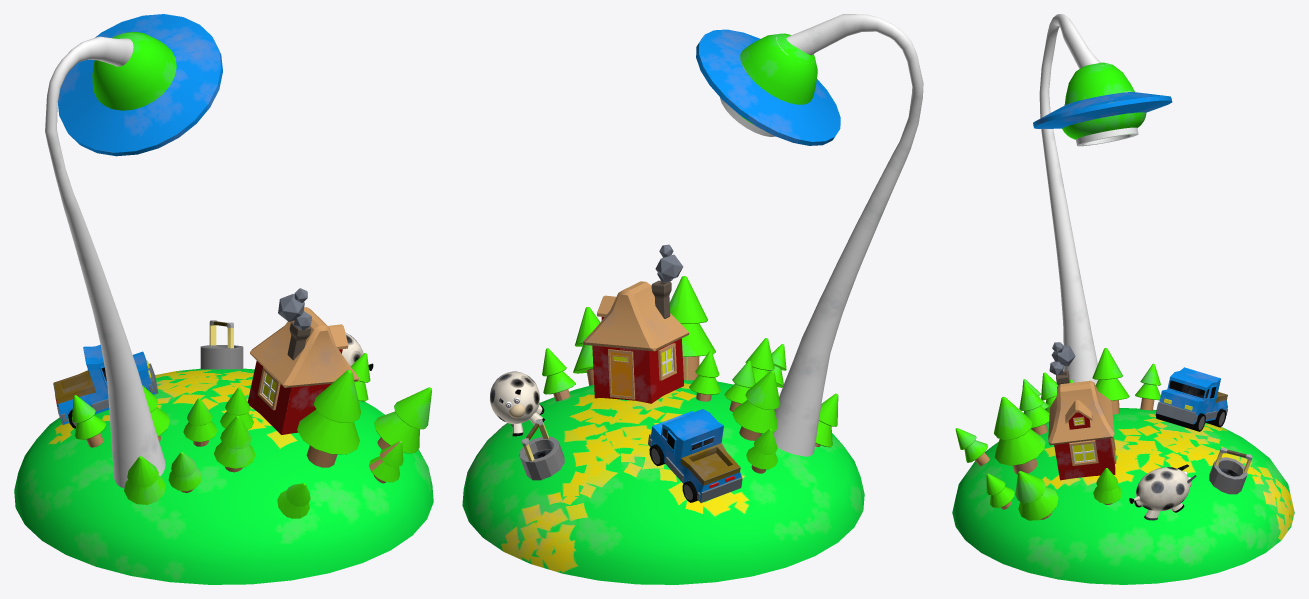
File: UFO_Lamp_F.fbx
3 views of the same model, side by side, from view 1: azimuth 30°, elevation 25°; view 2: azimuth 150°, elevation 25°; view 3: azimuth 270°, elevation 25° (orthographic). The views are drawn at different scales.
Visible parts, largest first — view 1: Sphere.001, Ufo, Cylinder.005, Circle, Cube.001, Cube, Cube.004, Cylinder.013, Icosphere.002; view 2: Sphere.001, Circle, Ufo, Cylinder.005, Cube.004, Cube, Cube.001, Sphere, Cylinder.013, Icosphere.002; view 3: Sphere.001, Cylinder.005, Circle, Ufo, Cube.001, Cube.004, Sphere, Cube, Cylinder.013, Cube.003, Cylinder.010, Icosphere.002.
Part boxes in pixels (x1,y1,x2,y2): Sphere.001: (14,368,433,584); Ufo: (58,14,222,156); Cylinder.005: (72,353,431,518); Circle: (45,36,165,488); Cube.001: (250,307,358,387); Cube: (247,361,330,434); Cube.004: (53,344,158,424); Cylinder.013: (200,320,243,369); Icosphere.002: (278,288,311,330); Sphere.001: (462,380,864,584); Circle: (773,14,923,456); Ufo: (696,29,840,145); Cylinder.005: (542,276,838,473); Cube.004: (648,409,742,502); Cube: (592,338,683,403); Cube.001: (583,281,689,351); Sphere: (490,371,544,436); Cylinder.013: (519,419,564,480); Icosphere.002: (655,244,683,282); Sphere.001: (952,408,1294,584); Cylinder.005: (955,348,1160,520); Circle: (1039,14,1100,384); Ufo: (1033,62,1172,146); Cube.001: (1048,380,1114,445); Cube.004: (1156,367,1227,424); Sphere: (1129,464,1196,520); Cube: (1054,437,1116,480); Cylinder.013: (1209,447,1252,494); Cube.003: (1065,400,1092,429); Cylinder.010: (1155,409,1226,431); Icosphere.002: (1049,342,1075,375).
Bounding box in the file's own units: 810 × 996 × 726.
15 materials, 15 textured.
